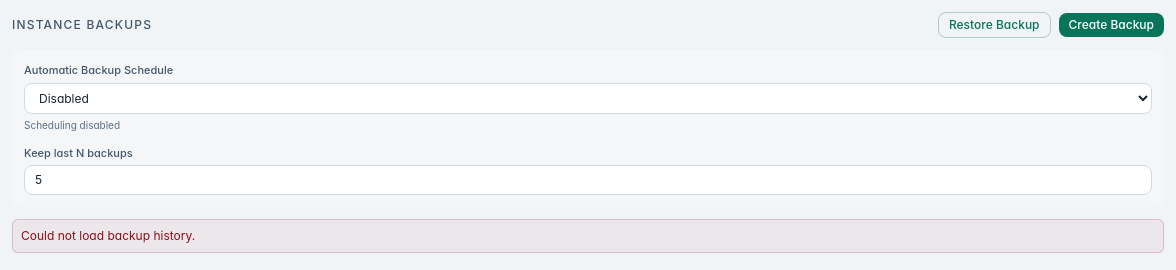
InstanceBackupManager — independent initial loads › clears a history error after a successful backup poll
Expected: the text "Could not load backup history." is shown, [21, 228, 195, 243]
Click the button "Create Backup". click: (1111, 25)
box: [1058, 13, 1164, 37]
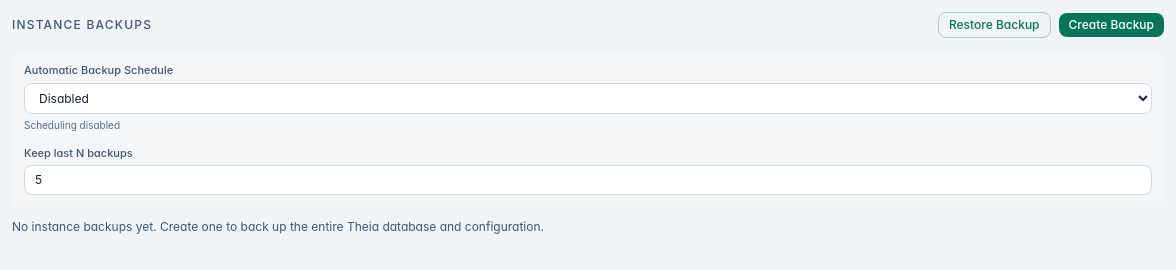
Expected: the text "Could not load backup history." is gone
Expected: the text "No instance backups yet" is shown, [12, 219, 544, 234]
